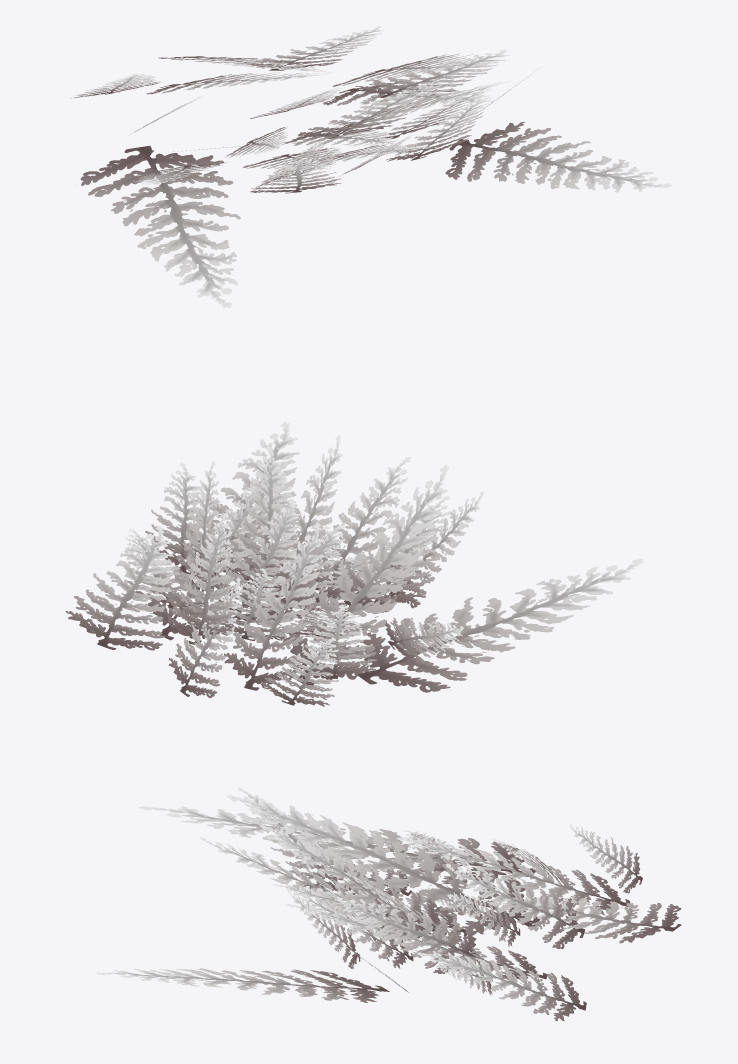
File: fanmoss.fbx
3 views of the same model, one above another, from view 1: azimuth 30°, elevation 25°; view 2: azimuth 150°, elevation 25°; view 3: azimuth 270°, elevation 25° (orthographic). The views are drawn at different scales.
Visible parts, largest first — view 1: fanmoss_cluster_aligned; view 2: fanmoss_cluster_aligned; view 3: fanmoss_cluster_aligned.
Part boxes in pixels (<box>): fanmoss_cluster_aligned: <box>71,26,671,307</box>; fanmoss_cluster_aligned: <box>65,422,643,706</box>; fanmoss_cluster_aligned: <box>96,787,681,1020</box>.
Bounding box in the file's own units: 258 × 87.76 × 313.
1 material, 1 textured.
